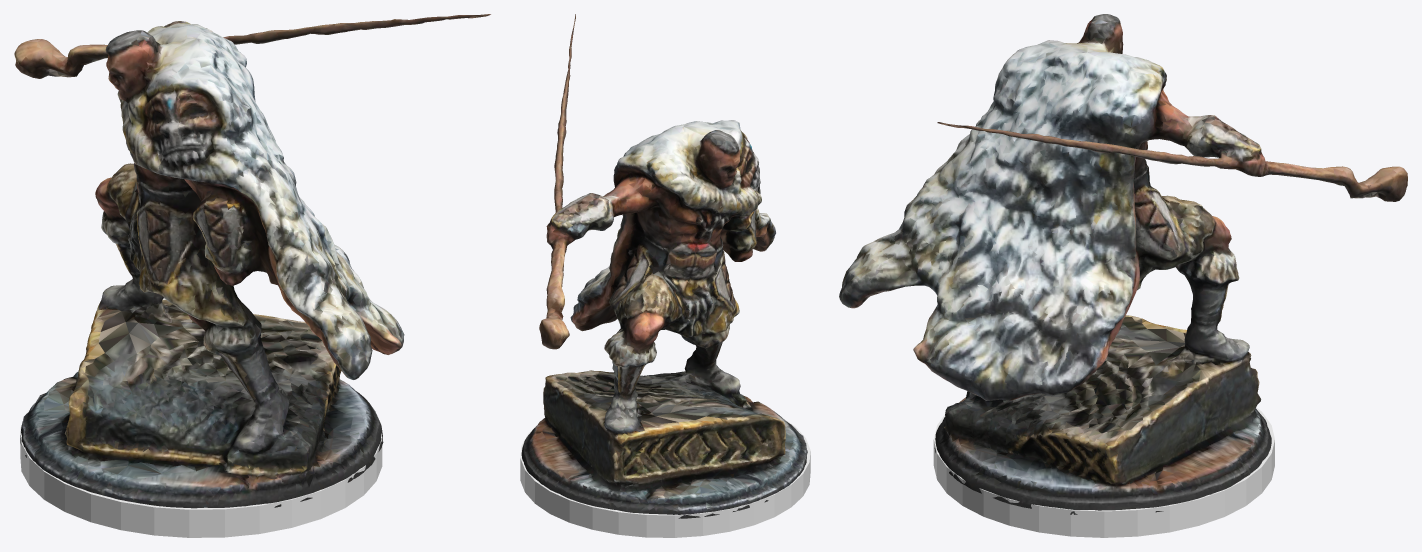
3 renders of one model, left to right at view 1: azimuth 30°, elevation 25°; view 2: azimuth 150°, elevation 25°; view 3: azimuth 270°, elevation 25°, orthographic. The views are drawn at different scales.
Visible parts, largest first — view 1: Mbaku (1), default; view 2: Mbaku (1), default; view 3: Mbaku (1), default.
Boxes of the visible parts, <box> form: Mbaku (1): <box>14,14,490,508</box>; default: <box>20,409,382,537</box>; Mbaku (1): <box>521,14,807,518</box>; default: <box>520,418,810,537</box>; Mbaku (1): <box>839,14,1407,514</box>; default: <box>933,399,1274,537</box>.
Bounding box in the file's own units: 1.57 × 1.94 × 2.29.
2 materials, 1 textured.
